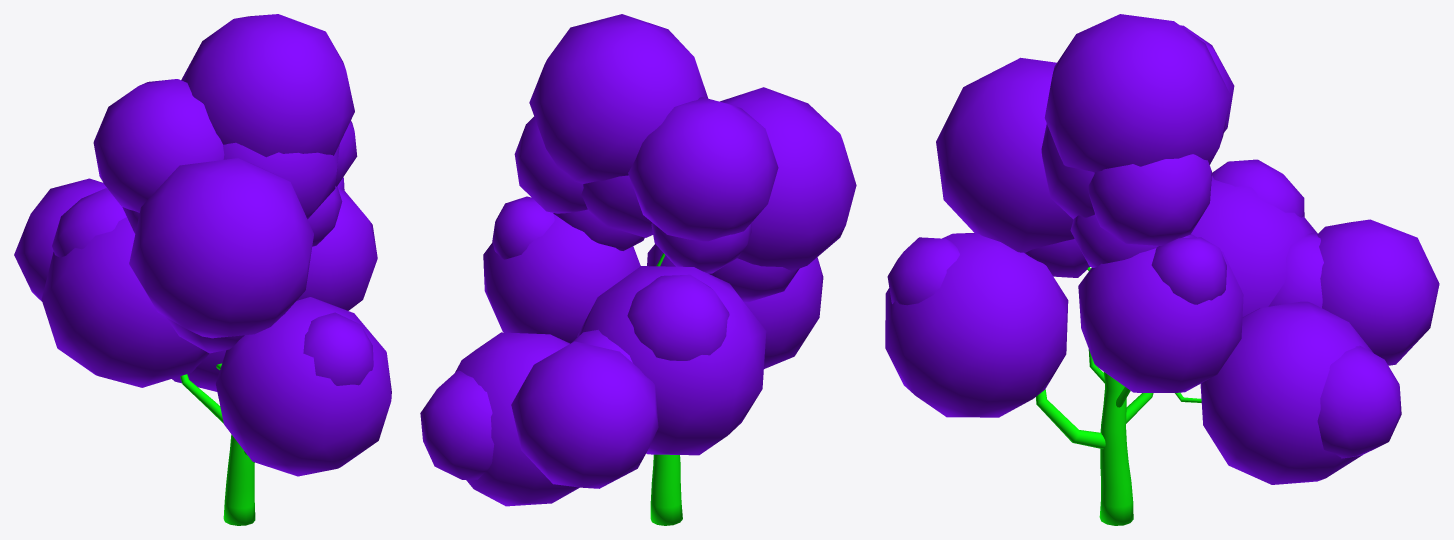
File: MarcoTree2.fbx
3 views of the same model, side by side, from view 1: azimuth 30°, elevation 25°; view 2: azimuth 150°, elevation 25°; view 3: azimuth 270°, elevation 25° (orthographic). The views are drawn at different scales.
Visible parts, largest first — view 1: merge1; view 2: merge1; view 3: merge1.
Part boxes in pixels (box(x1,y1,x2,y2)): merge1: box(14, 14, 391, 525); merge1: box(420, 14, 856, 525); merge1: box(885, 14, 1439, 525).
Bounding box in the file's own units: 4.41 × 7.12 × 6.96.
